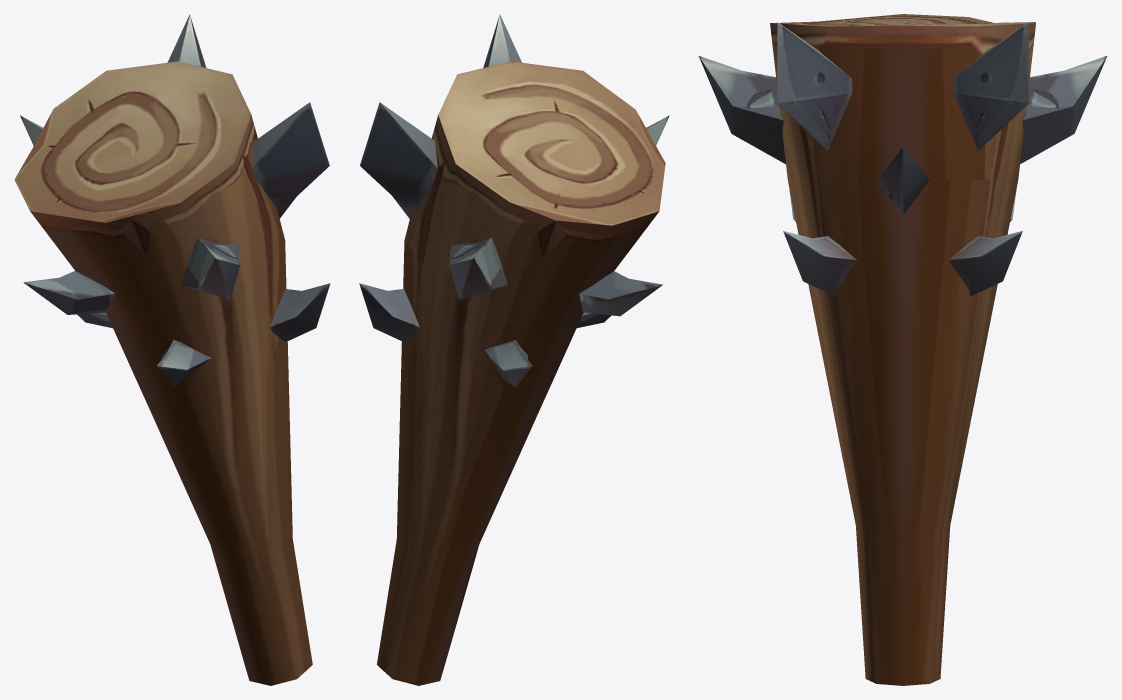
The model's file is monster_bear01_weapon01.FBX.
The picture shows the model from 3 angles, left to right: view 1: azimuth 30°, elevation 25°; view 2: azimuth 150°, elevation 25°; view 3: azimuth 270°, elevation 25°; orthographic projection. The views are drawn at different scales.
Visible parts, largest first — view 1: monster_bear01_weapon01; view 2: monster_bear01_weapon01; view 3: monster_bear01_weapon01.
Boxes of the visible parts, <box> form: monster_bear01_weapon01: <box>14,14,330,685</box>; monster_bear01_weapon01: <box>359,14,669,685</box>; monster_bear01_weapon01: <box>698,14,1107,685</box>.
Size of the model in its own units: 54.69 by 65.32 by 115.
